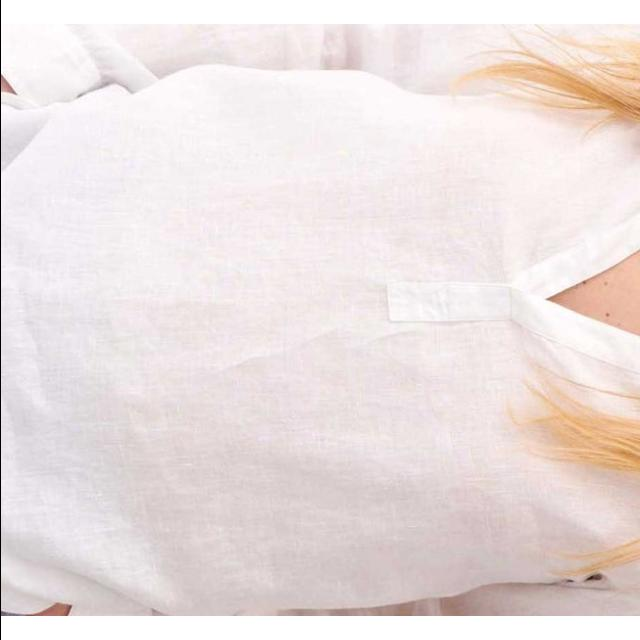linen: (8, 24, 640, 616)
